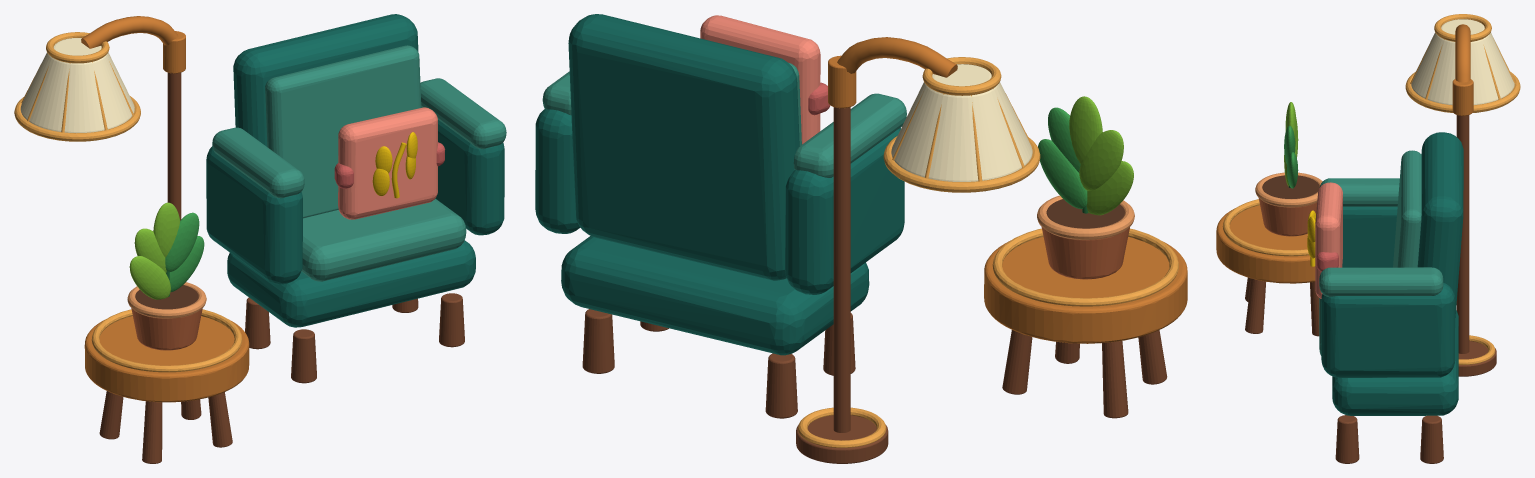
The model's file is reading-corner.glb.
The picture shows the model from 3 angles, left to right: view 1: azimuth 30°, elevation 25°; view 2: azimuth 150°, elevation 25°; view 3: azimuth 270°, elevation 25°; orthographic projection. The views are drawn at different scales.
Parts seen in each view (by area): view 1: Backrest_Face, Chair_Base, Table_Top, Seat_Cushion, Armrest_L, Backrest, Pillow_Core, Lamp_Shade, Armrest_R, Chair, Armrest_Cap_L, Armrest_Cap_R (+17 smaller); view 2: Backrest, Chair_Base, Table_Top, Armrest_L, Lamp_Shade, Lamp_Pole, Chair, Armrest_R, Pillow_Core, Armrest_Cap_L, Plant_Pot, Table_Top_Rim (+17 smaller); view 3: Armrest_R, Backrest, Chair_Base, Lamp_Shade, Table_Top, Armrest_Cap_R, Armrest_L, Backrest_Face, Lamp_Pole, Chair, Pillow_Core, Armrest_Cap_L (+15 smaller).
Boxes of the visible parts, left/top/right/bottom form: Backrest_Face: left=265, top=45, right=421, bottom=218; Chair_Base: left=227, top=240, right=475, bottom=327; Table_Top: left=84, top=316, right=249, bottom=402; Seat_Cushion: left=301, top=198, right=466, bottom=281; Armrest_L: left=206, top=146, right=302, bottom=284; Backrest: left=233, top=14, right=418, bottom=146; Pillow_Core: left=338, top=107, right=437, bottom=219; Lamp_Shade: left=20, top=38, right=134, bottom=133; Armrest_R: left=421, top=107, right=504, bottom=235; Chair: left=245, top=293, right=464, bottom=383; Armrest_Cap_L: left=212, top=127, right=304, bottom=198; Armrest_Cap_R: left=420, top=78, right=506, bottom=149; Backrest: left=568, top=14, right=799, bottom=280; Chair_Base: left=561, top=236, right=869, bottom=355; Table_Top: left=984, top=237, right=1187, bottom=343; Armrest_L: left=785, top=128, right=904, bottom=294; Lamp_Shade: left=891, top=64, right=1032, bottom=181; Lamp_Pole: left=833, top=107, right=850, bottom=432; Chair: left=582, top=309, right=855, bottom=418; Armrest_R: left=535, top=109, right=580, bottom=233; Pillow_Core: left=700, top=15, right=820, bottom=144; Armrest_Cap_L: left=793, top=93, right=906, bottom=177; Plant_Pot: left=1041, top=227, right=1129, bottom=279; Table_Top_Rim: left=992, top=228, right=1178, bottom=306; Armrest_R: left=1321, top=283, right=1455, bottom=377; Backrest: left=1417, top=132, right=1463, bottom=317; Chair_Base: left=1332, top=310, right=1458, bottom=415; Lamp_Shade: left=1411, top=19, right=1514, bottom=105; Table_Top: left=1216, top=205, right=1315, bottom=283; Armrest_Cap_R: left=1319, top=267, right=1443, bottom=296; Armrest_L: left=1342, top=206, right=1397, bottom=267; Backrest_Face: left=1393, top=150, right=1421, bottom=267; Lamp_Pole: left=1456, top=115, right=1469, bottom=353; Chair: left=1335, top=415, right=1443, bottom=463; Pillow_Core: left=1315, top=182, right=1342, bottom=298; Armrest_Cap_L: left=1319, top=178, right=1399, bottom=206.
Bounding box in the file's own units: 3.22 × 2.42 × 2.16.
